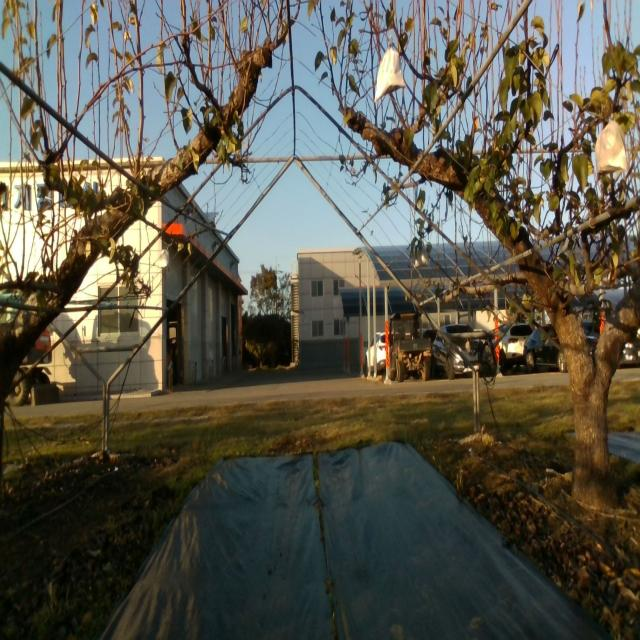pearbags: (373, 34, 408, 104), (595, 118, 628, 182), (414, 247, 431, 270), (157, 248, 170, 269)
